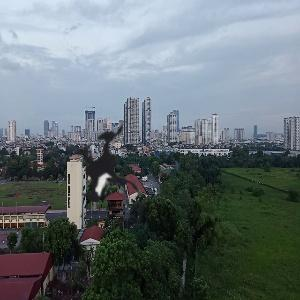drone: (16, 84, 180, 248)
